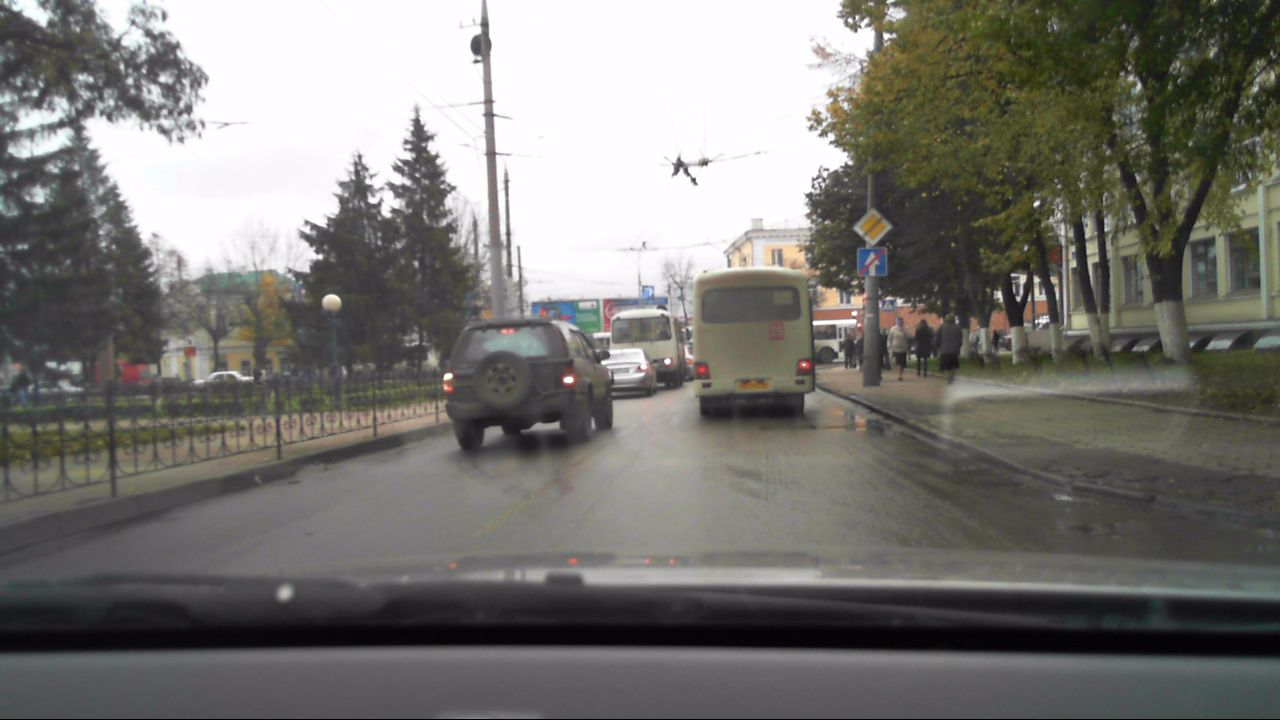main road: (849, 206, 893, 245)
